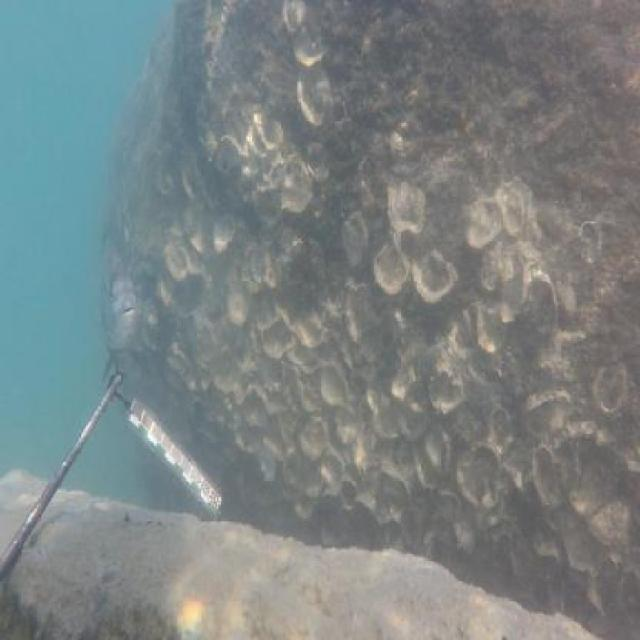acanthopagrus_palmaris: (98, 230, 150, 388)
